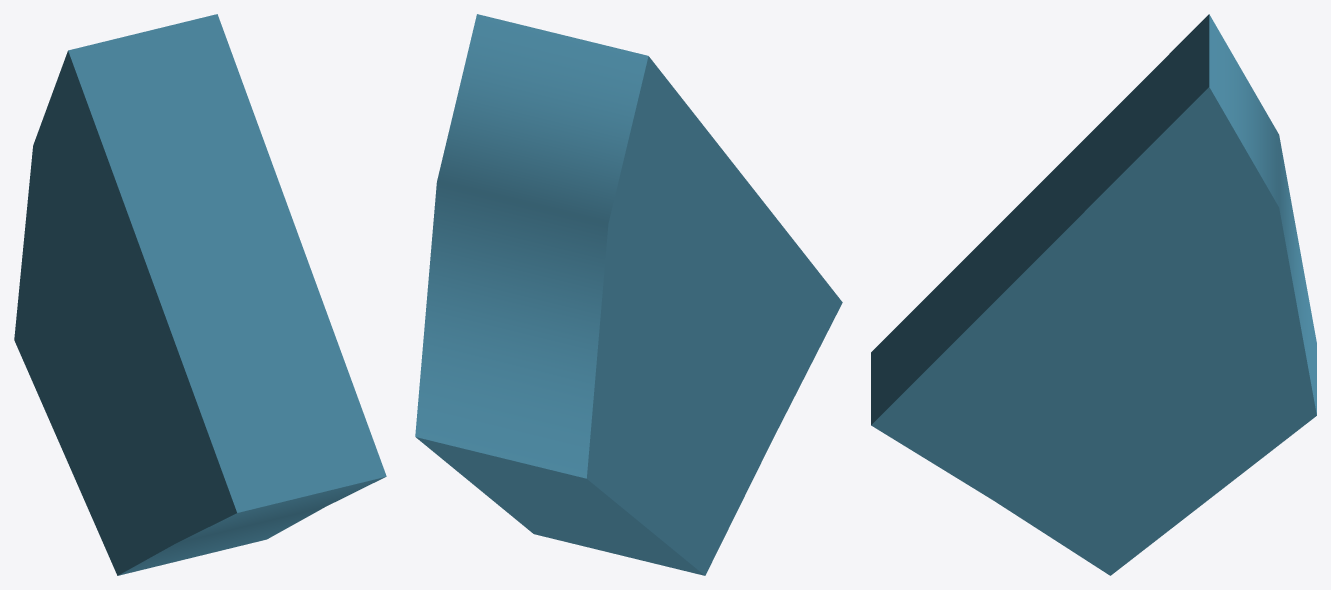
The model's file is NexusC_Trigger_8.fbx.
The picture shows the model from 3 angles, left to right: view 1: azimuth 30°, elevation 25°; view 2: azimuth 150°, elevation 25°; view 3: azimuth 270°, elevation 25°; orthographic projection. The views are drawn at different scales.
Parts seen in each view (by area): view 1: polySurface78; view 2: polySurface78; view 3: polySurface78.
Boxes of the visible parts, bbox=[...] form: polySurface78: bbox=[14, 14, 386, 575]; polySurface78: bbox=[415, 14, 842, 575]; polySurface78: bbox=[871, 14, 1316, 575].
Size of the model in its own units: 12.85 by 40.21 by 33.22.
